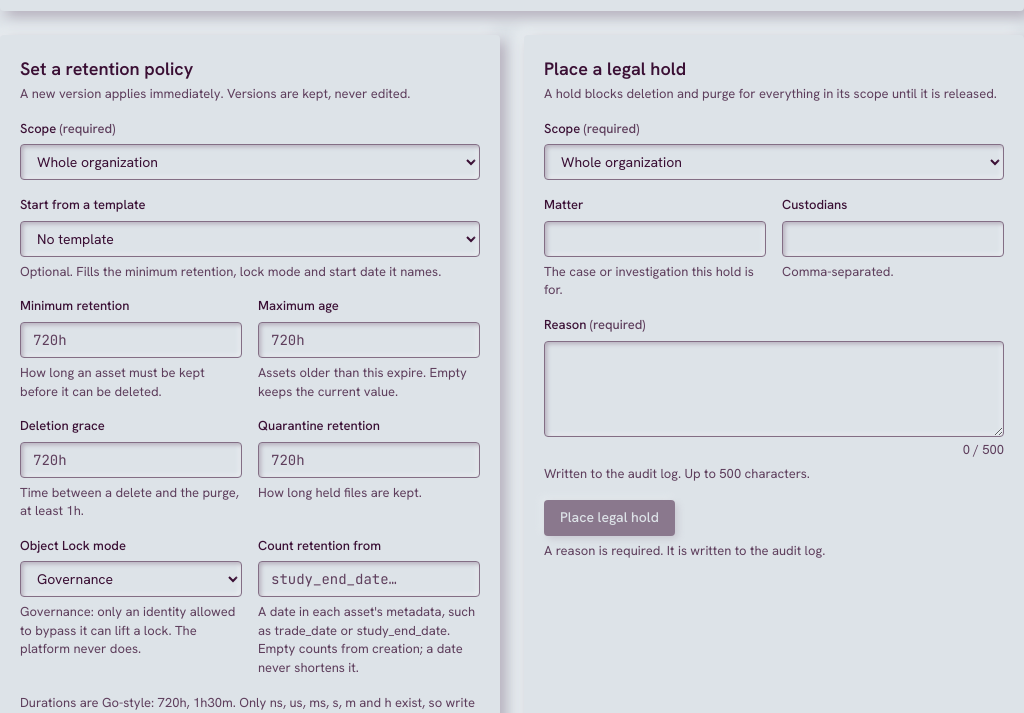
Test: RetentionScreen › makes a COMPLIANCE policy only after the word is typed
(page scrolled)
Type "52560h" into the field labelled "Minimum retention" at point(131, 340), box [20,322,242,358]
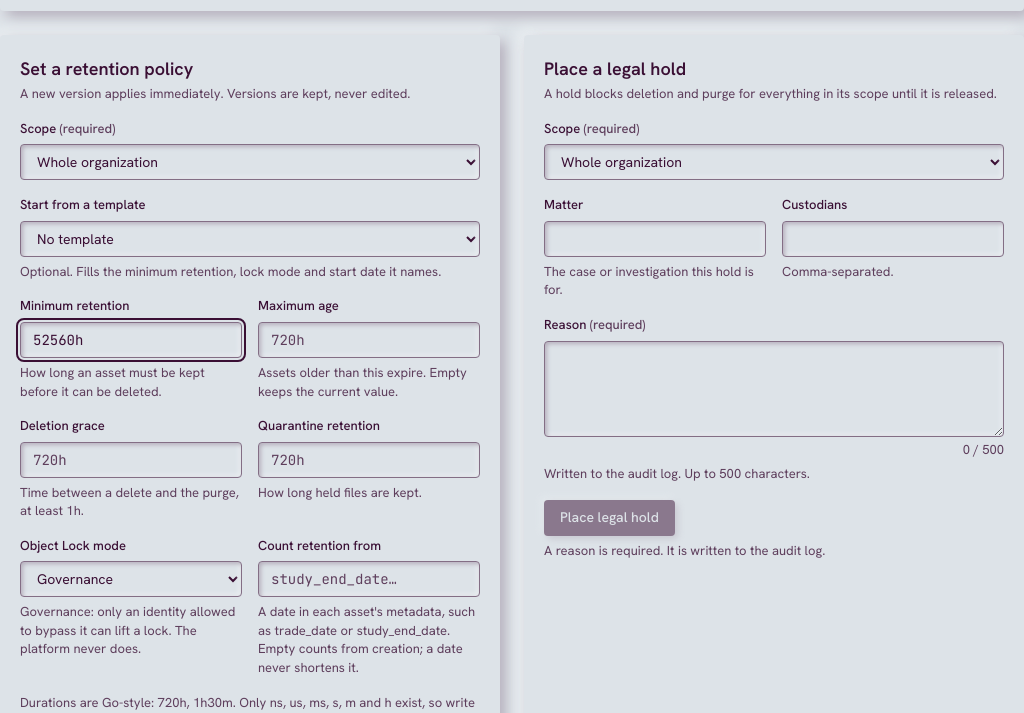
Select "Compliance" in the dropdown labelled "Object Lock mode" at point(131, 579), box [20,561,242,597]
(page scrolled)
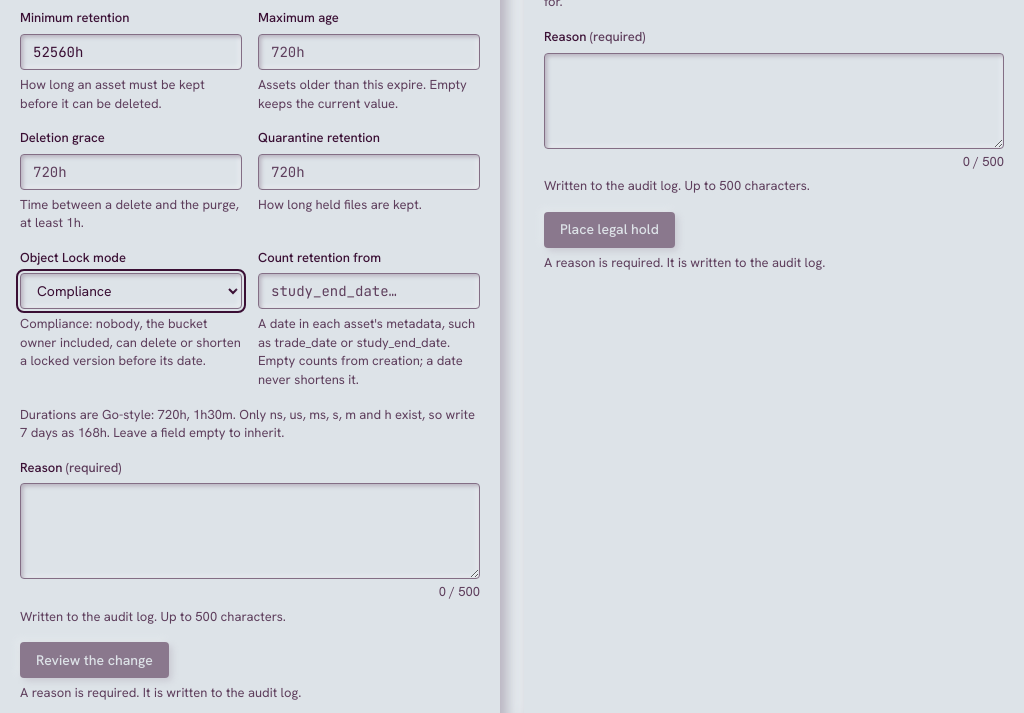
Type "17a-4" into the text box labelled "Reason (required)" below "Object Lock mode" at point(250, 531), box [20,483,480,579]
(page scrolled)
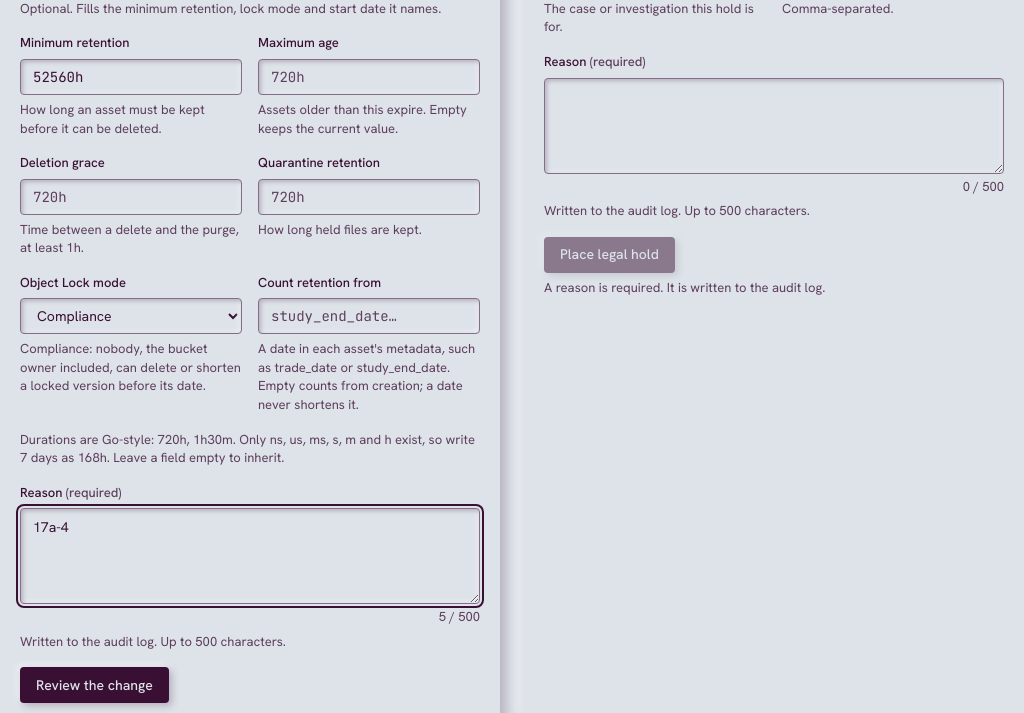
Click the button "Review the change" at point(94, 685), box [20,667,169,703]
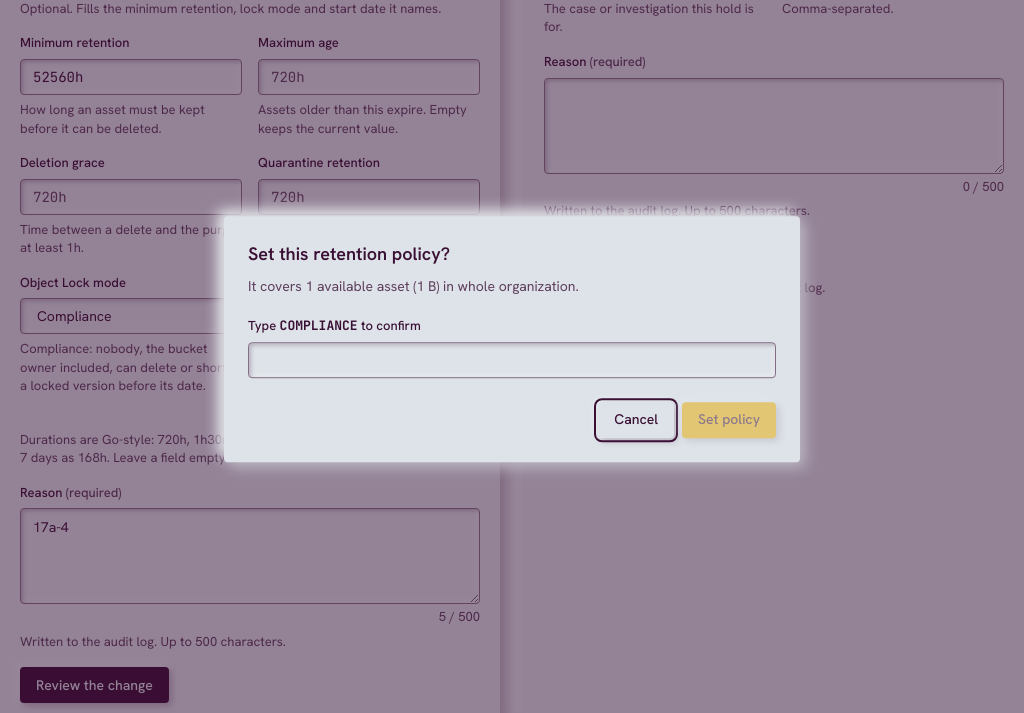
expect the button "Set policy" is disabled: met, box [682,402,776,438]
Type "COMPLIANCE" into the field at point(512, 360), box [248,342,776,378]
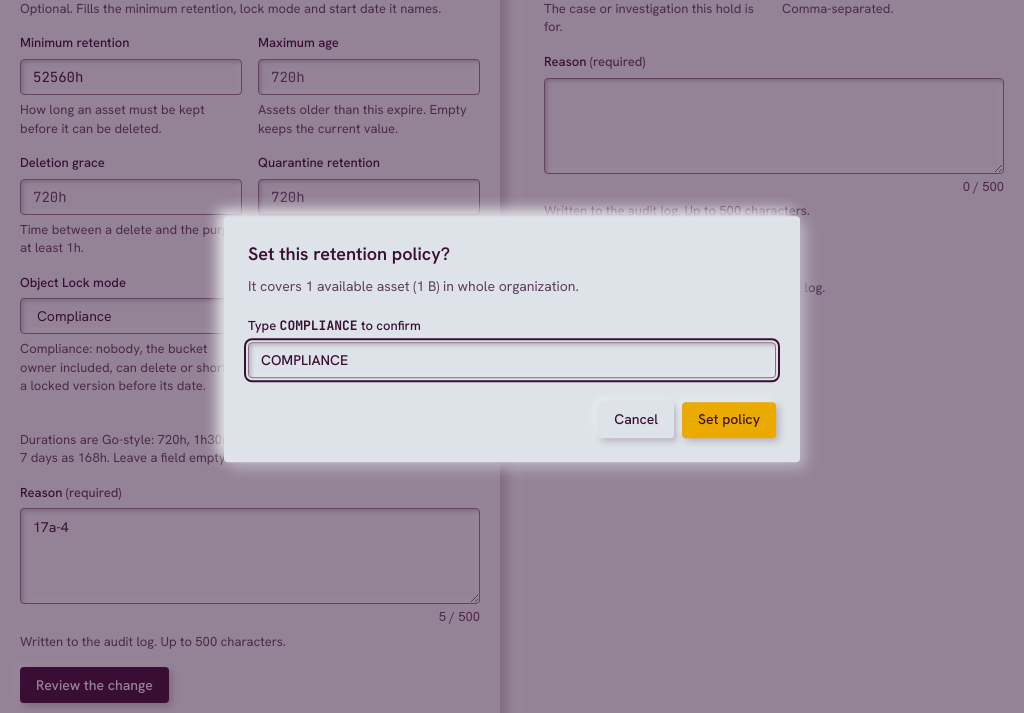
Click the button "Set policy" at point(729, 420), box [682,402,776,438]
(page scrolled)
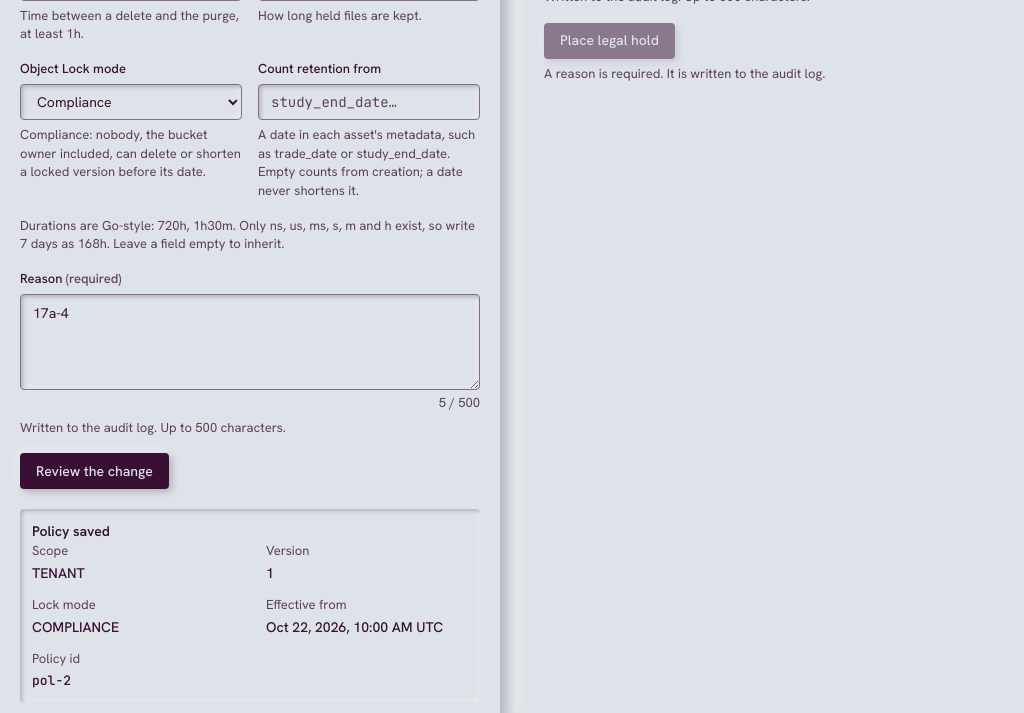
expect the text "Policy saved" is shown: met, box [32,522,110,540]
